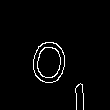O_N: (32, 25, 78, 85)
